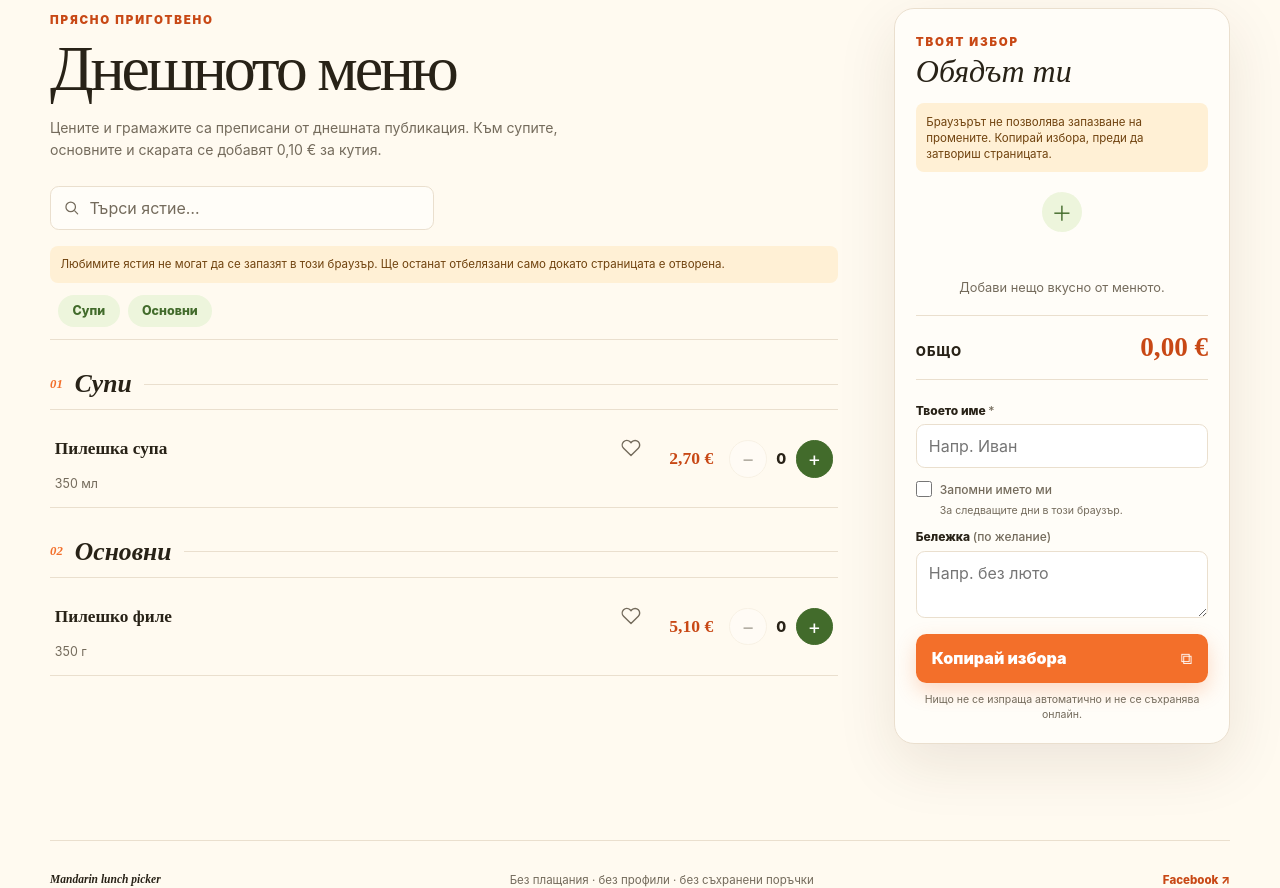
Test case: interactive menu › keeps selection, copying, clearing, and Undo usable when storage is blocked
(page scrolled)
Expected: the text "Браузърът не позволява запазване" is shown, [926,114,1144,161]
Click the button named "Добави Пилешка супа".
click(814, 459)  # box [796,440,833,478]
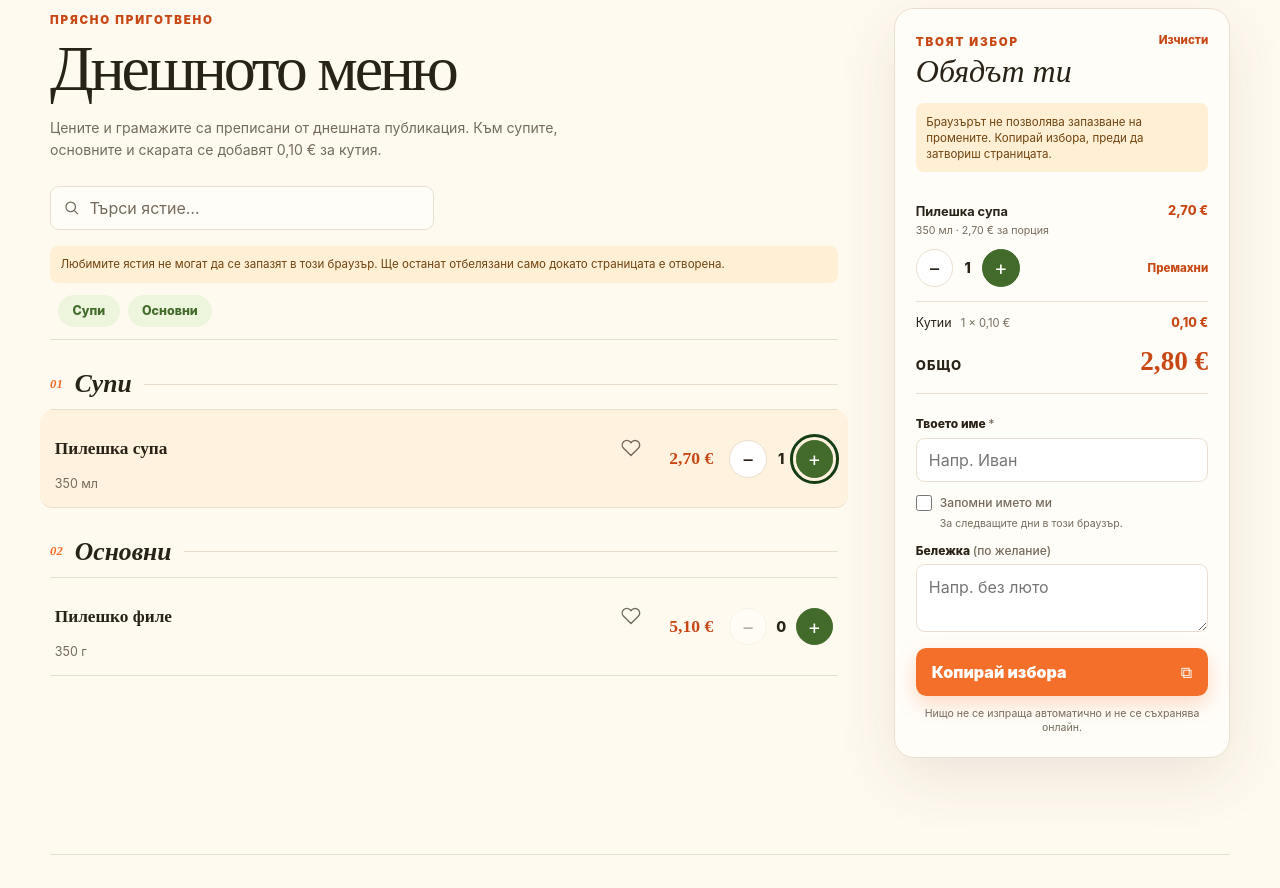
Type "Иван" into the field labelled "Твоето име *".
click(1062, 460); type("Иван")  # box [916,438,1208,482]
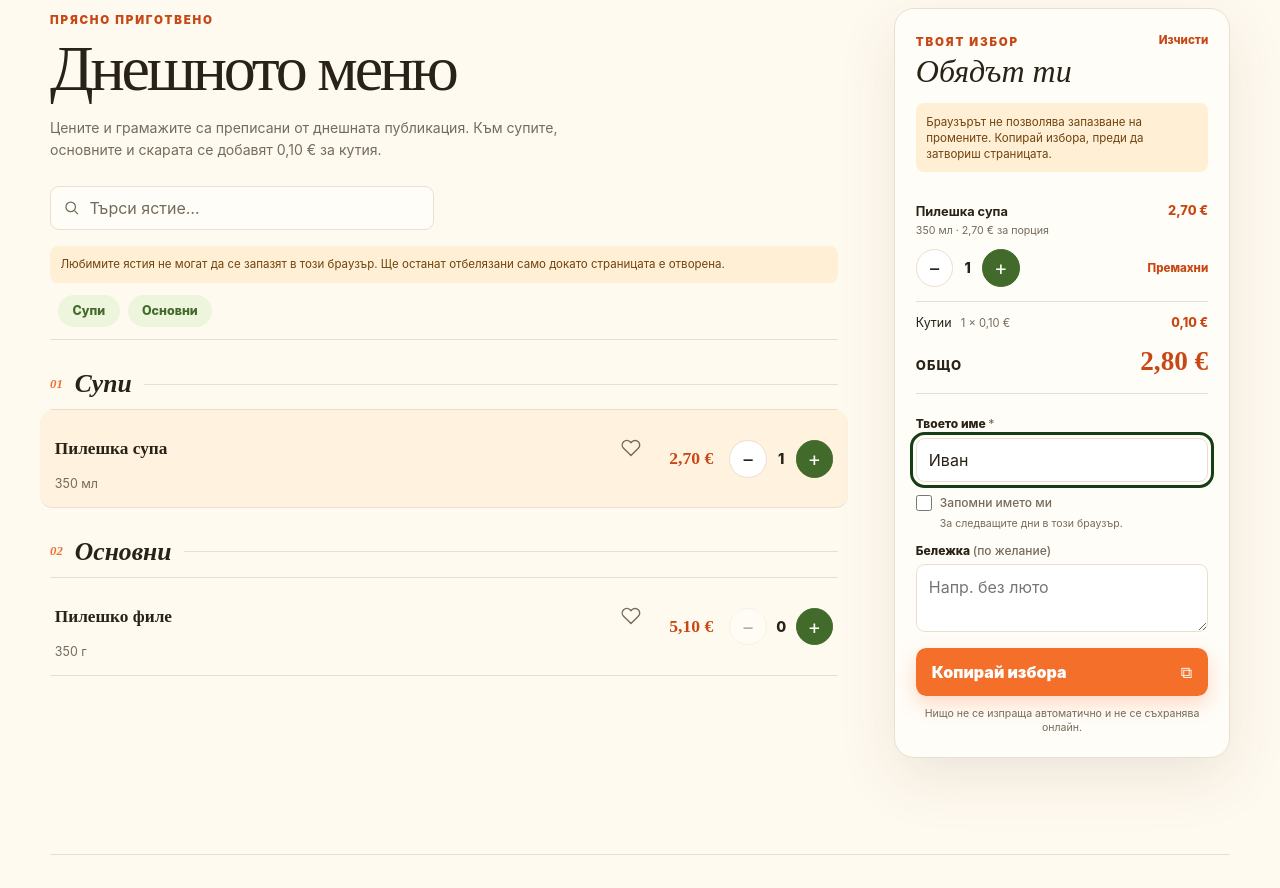
Click the button "Копирай избора ⧉".
click(1062, 672)  # box [916,648,1208,696]
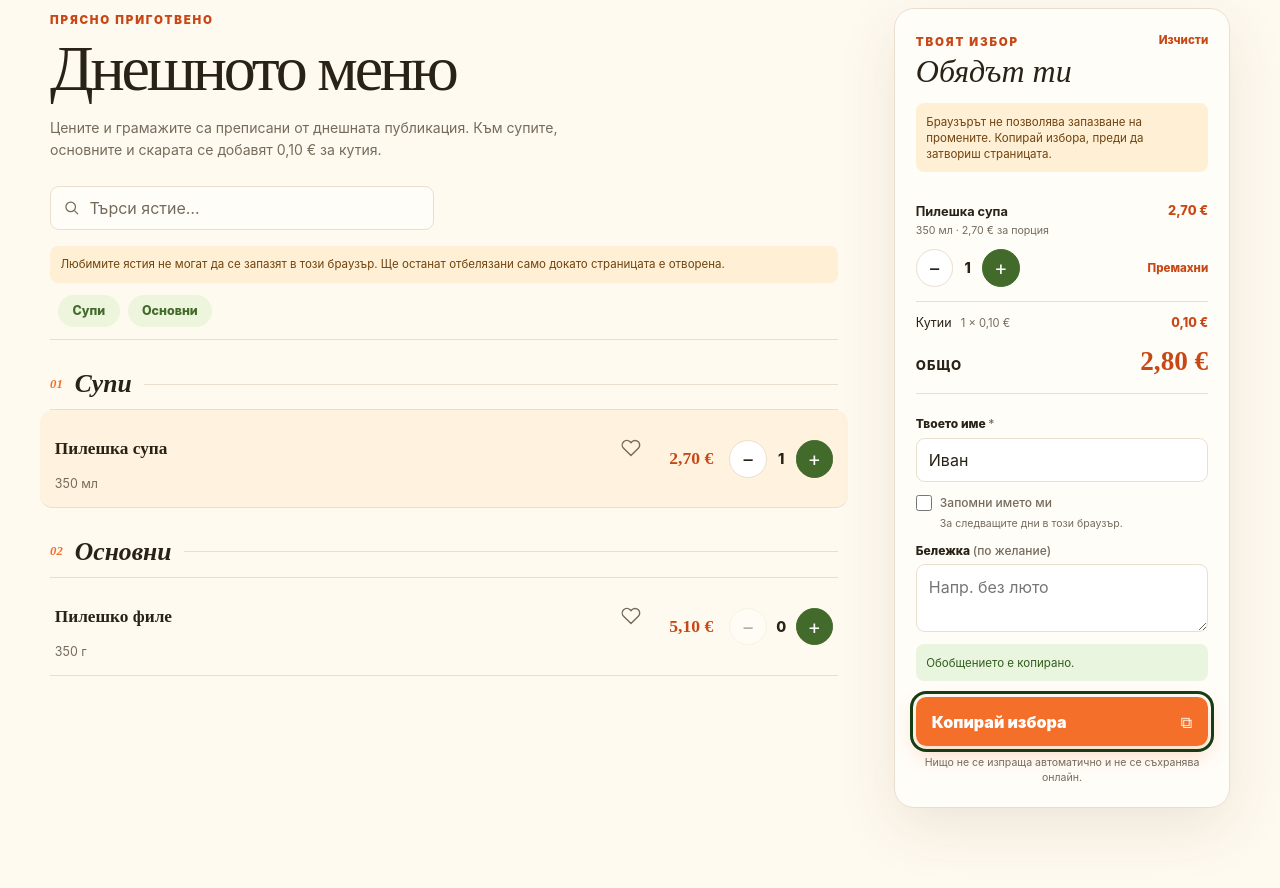
Click the button "Изчисти".
click(1183, 40)  # box [1159,30,1208,51]
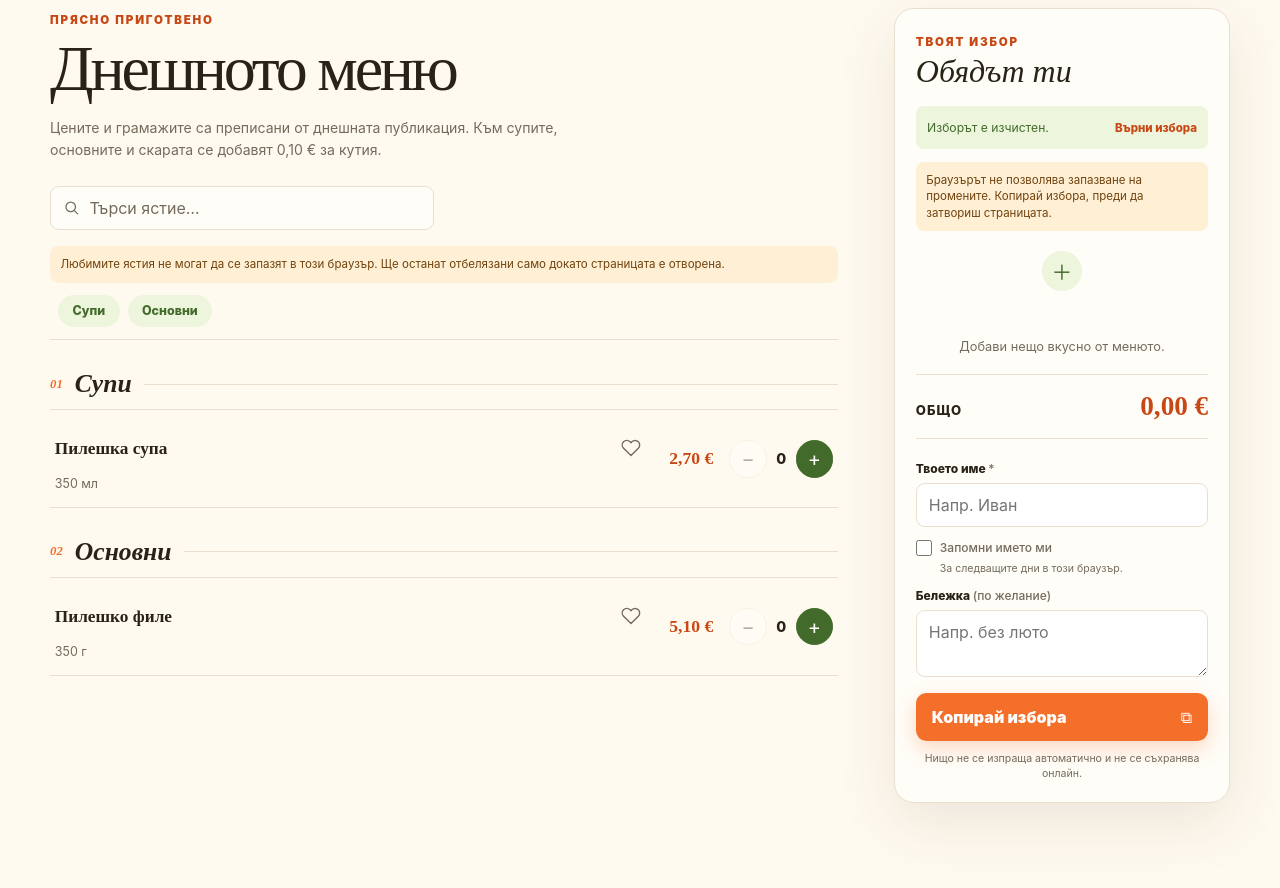
Click the button "Върни избора".
click(1156, 128)  # box [1115,118,1197,138]
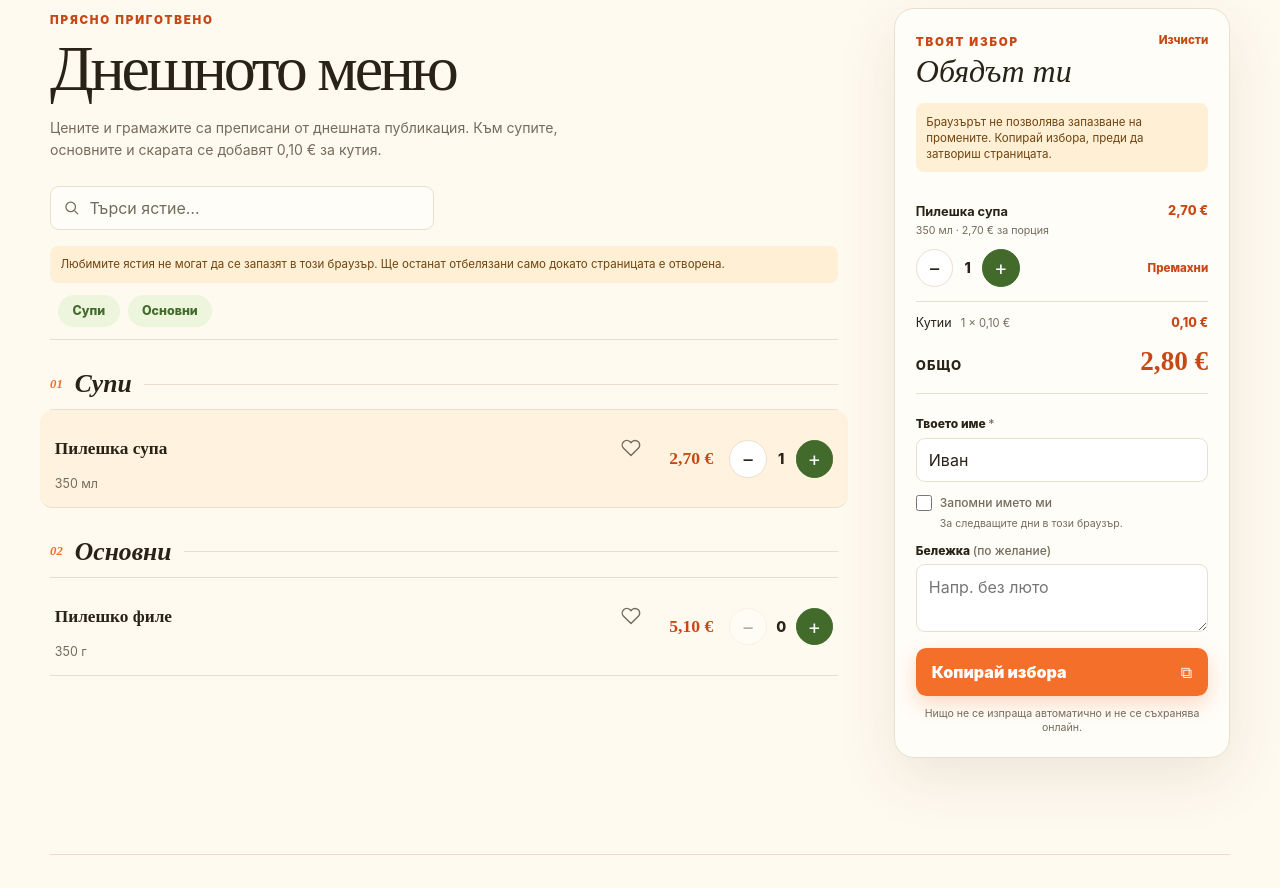
Expected: the text named "Избрано количество: 1" reads "1", [778,450,784,467]
